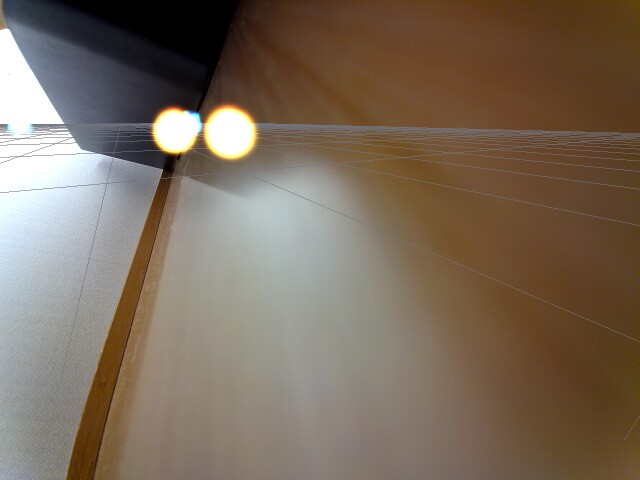firebig: (203, 99, 261, 167)
